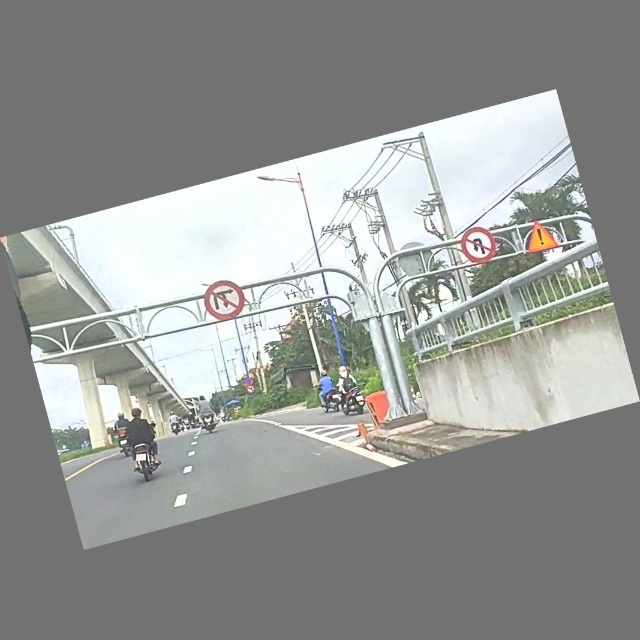P.123a: (246, 385, 256, 395)
P.124a*: (457, 223, 499, 269)
P.124d: (200, 276, 249, 326)
P.130: (244, 377, 254, 387)
W.233: (521, 217, 559, 256)
